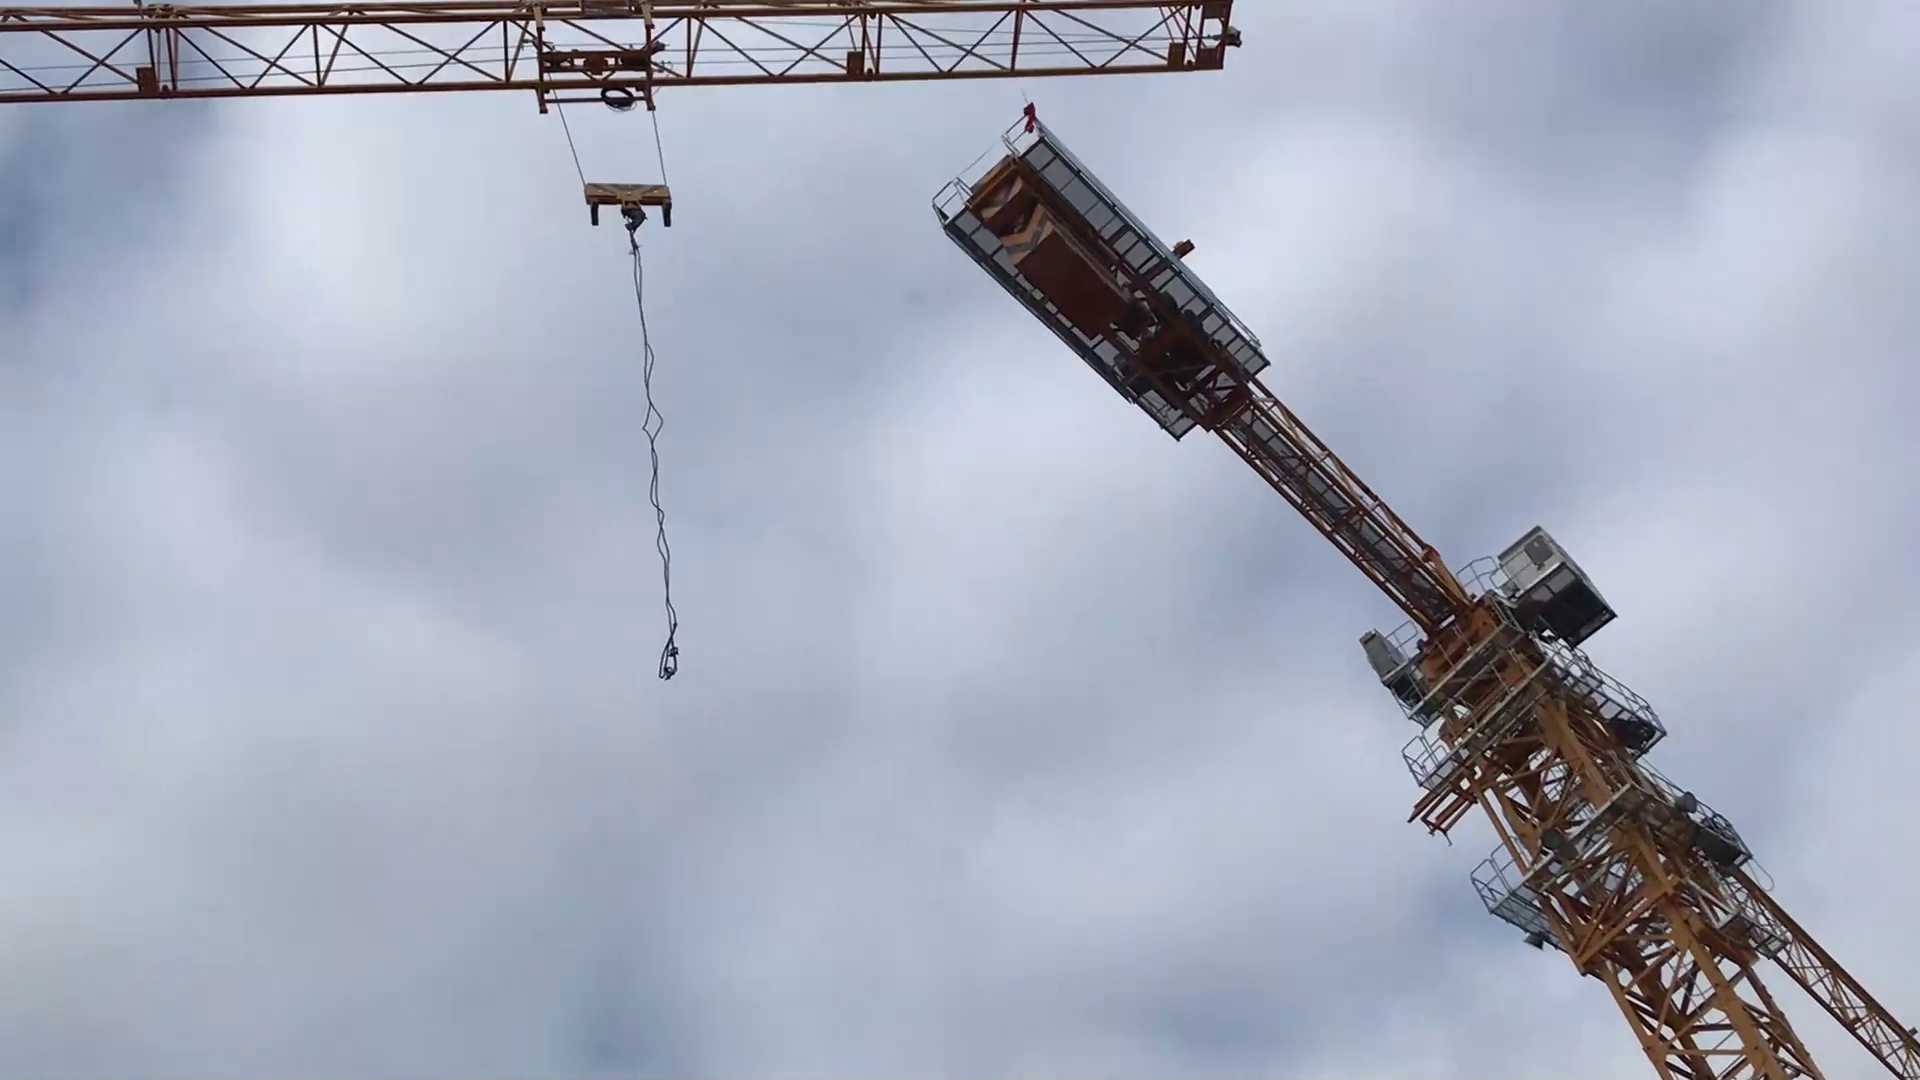hook: (570, 179, 684, 237)
